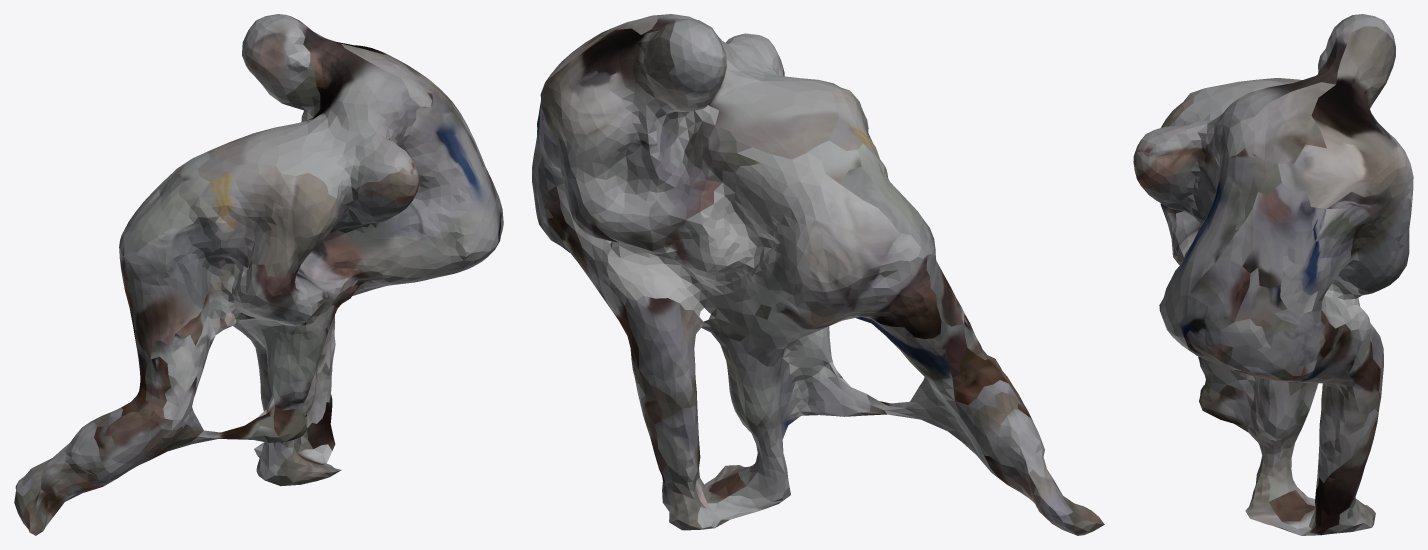
Rendered from double-leg-4.glb.
3 renders of one model, left to right at view 1: azimuth 30°, elevation 25°; view 2: azimuth 150°, elevation 25°; view 3: azimuth 270°, elevation 25°, orthographic. The views are drawn at different scales.
Parts seen in each view (by area): view 1: geometry_0; view 2: geometry_0; view 3: geometry_0.
Part boxes in pixels (x1,y1,x2,y2): geometry_0: (14,14,503,535); geometry_0: (532,14,1104,535); geometry_0: (1133,14,1413,535).
Bounding box in the file's own units: 1.48 × 1.3 × 0.6511.
Materials: 1 (1 with a texture image).
